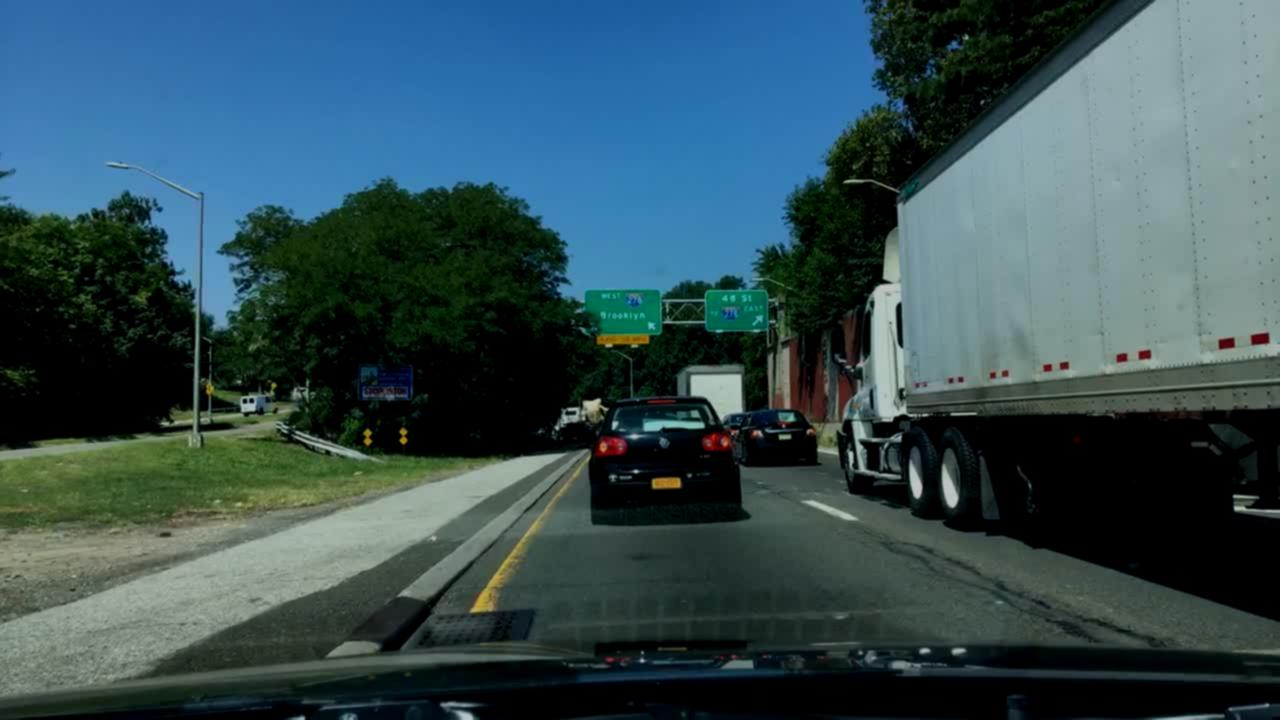Volkswagen: (654, 433, 680, 456)
